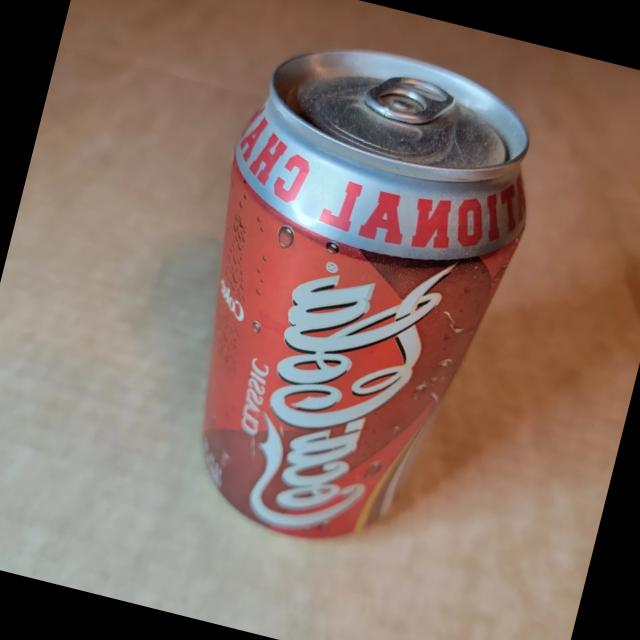cocacola: (162, 41, 560, 586)
